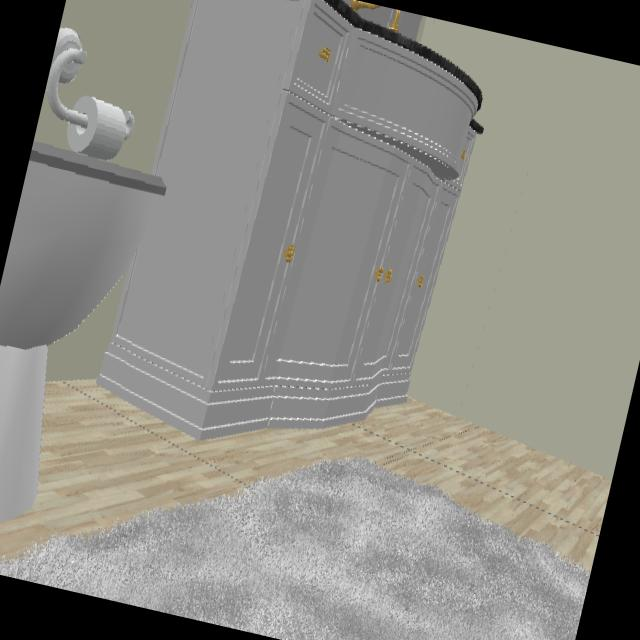cabinet: (95, 0, 481, 440)
toilet: (0, 45, 166, 522)
washbasin: (345, 0, 382, 12)
